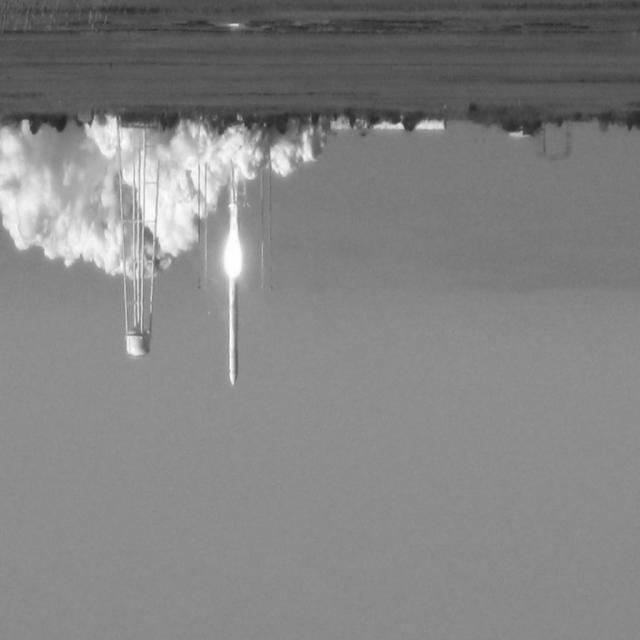Missile: (226, 267, 240, 390)
